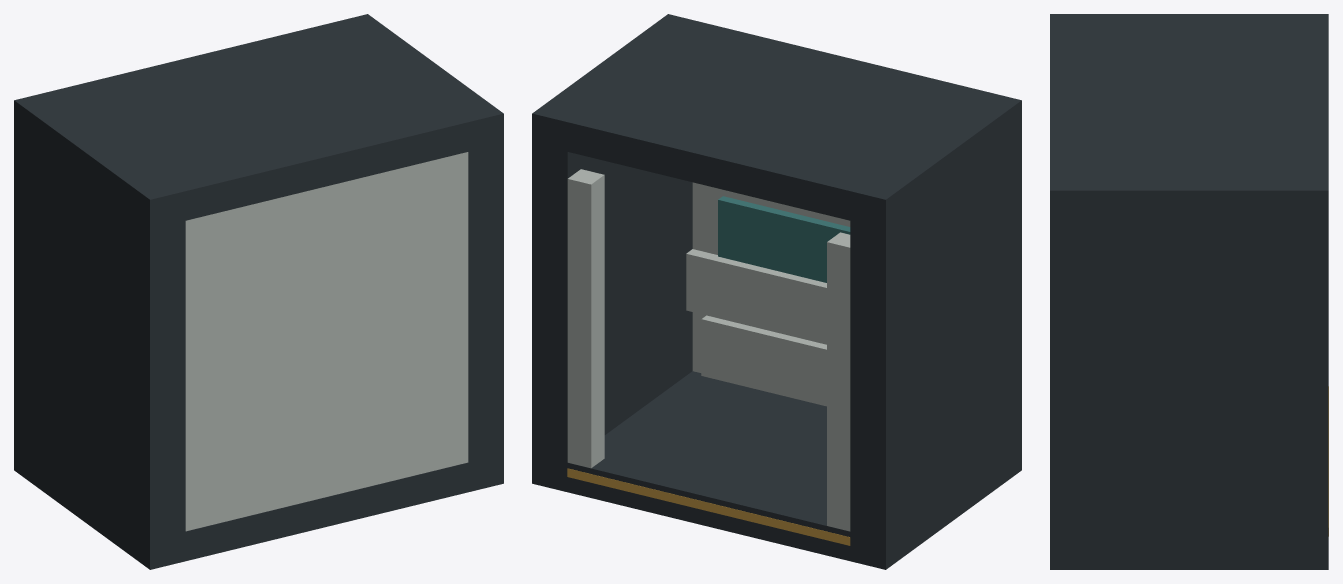
The model's file is wreck-cargo-open-v2.glb.
The picture shows the model from 3 angles, left to right: view 1: azimuth 30°, elevation 25°; view 2: azimuth 150°, elevation 25°; view 3: azimuth 270°, elevation 25°; orthographic projection. The views are drawn at different scales.
Parts seen in each view (by area): view 1: cargo_access; view 2: cargo_access; view 3: cargo_access.
Part boxes in pixels (<box>): cargo_access: <box>14,14,503,569</box>; cargo_access: <box>532,14,1021,569</box>; cargo_access: <box>1050,14,1328,569</box>.
Size of the model in its own units: 1.5 by 1.5 by 1.
